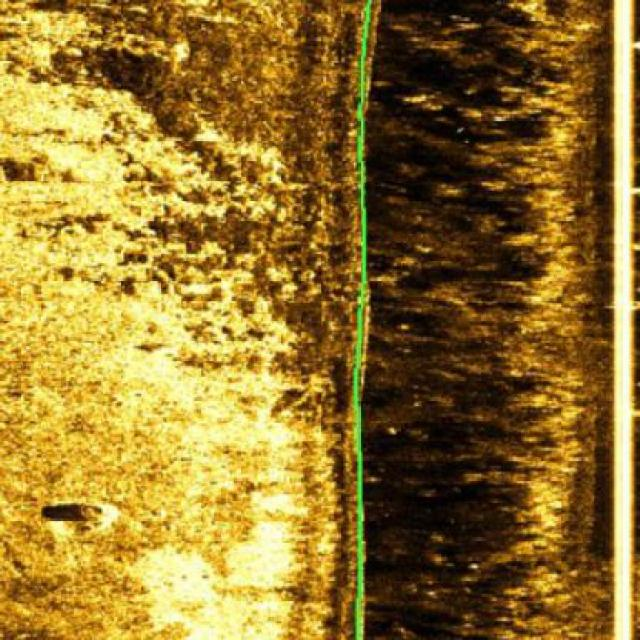bedrock group: (0, 0, 332, 417)
